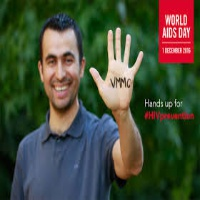ring: (124, 31, 131, 73)
